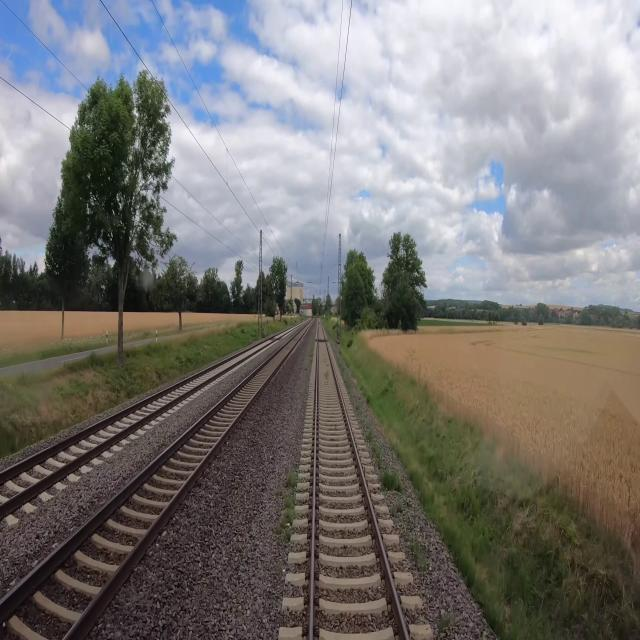Plant: (276, 497, 295, 543), (366, 425, 382, 469), (411, 538, 430, 574), (378, 466, 403, 491), (435, 607, 455, 636), (340, 364, 353, 392), (284, 470, 297, 489), (389, 501, 404, 516), (356, 403, 364, 421), (272, 486, 282, 497), (310, 344, 314, 361)
